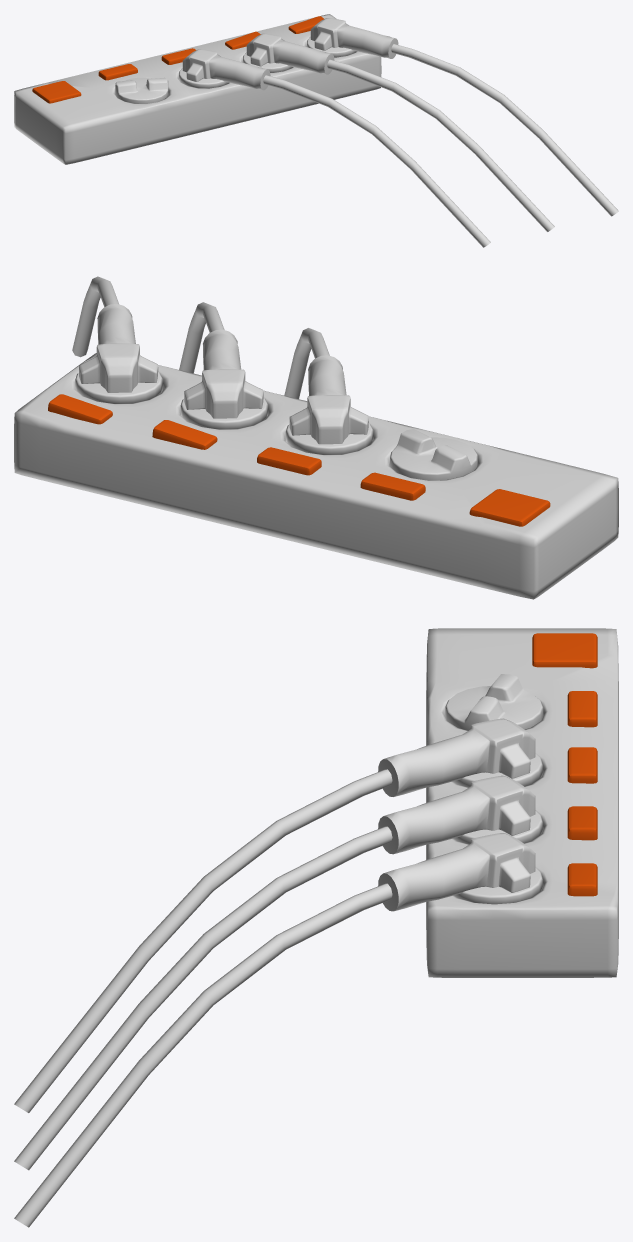
Rendered from Eden_mutitab.fbx.
3 renders of one model, top to bottom at view 1: azimuth 30°, elevation 25°; view 2: azimuth 150°, elevation 25°; view 3: azimuth 270°, elevation 25°, orthographic. The views are drawn at different scales.
Parts seen in each view (by area): view 1: Eden_multitab; view 2: Eden_multitab; view 3: Eden_multitab.
Part boxes in pixels (x1,y1,x2,y2): Eden_multitab: [14, 14, 618, 247]; Eden_multitab: [14, 276, 618, 599]; Eden_multitab: [14, 628, 618, 1227].
Size of the model in its own units: 0.0121 by 0.00354 by 0.00782.
